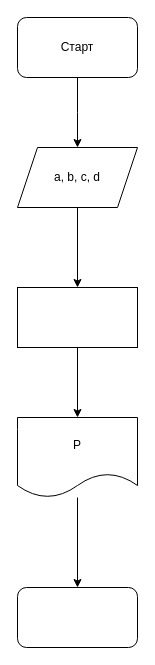
Image size: 155x665. Some labels were removed from this diagram. The box of each missing label's shape, as (x1, y1, x2, y2) in pixels:
P=(a+b+c+d)/4: (16, 286, 138, 348)
Конец: (16, 586, 138, 648)
